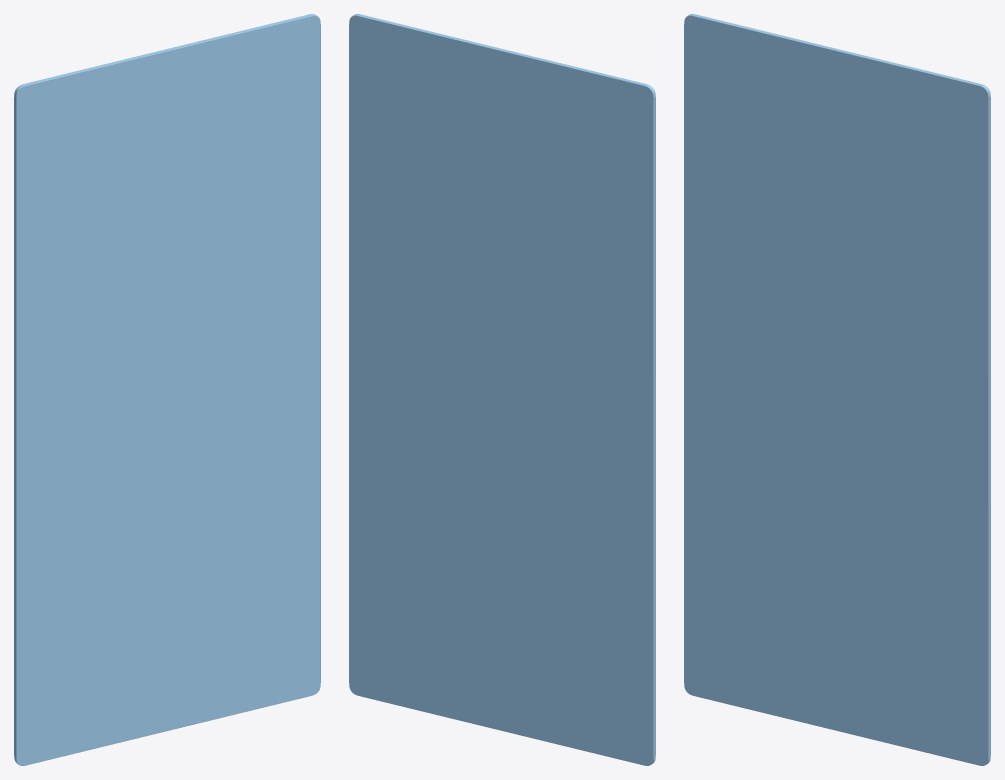
The model's file is Display.fbx.
The picture shows the model from 3 angles, left to right: view 1: azimuth 30°, elevation 25°; view 2: azimuth 150°, elevation 25°; view 3: azimuth 330°, elevation 25°; orthographic projection.
Visible parts, largest first — view 1: Display; view 2: Display; view 3: Display.
Boxes of the visible parts, <box> form: Display: <box>14,14,320,765</box>; Display: <box>349,14,655,765</box>; Display: <box>684,14,990,765</box>.
Size of the model in its own units: 375 by 800 by 5.
